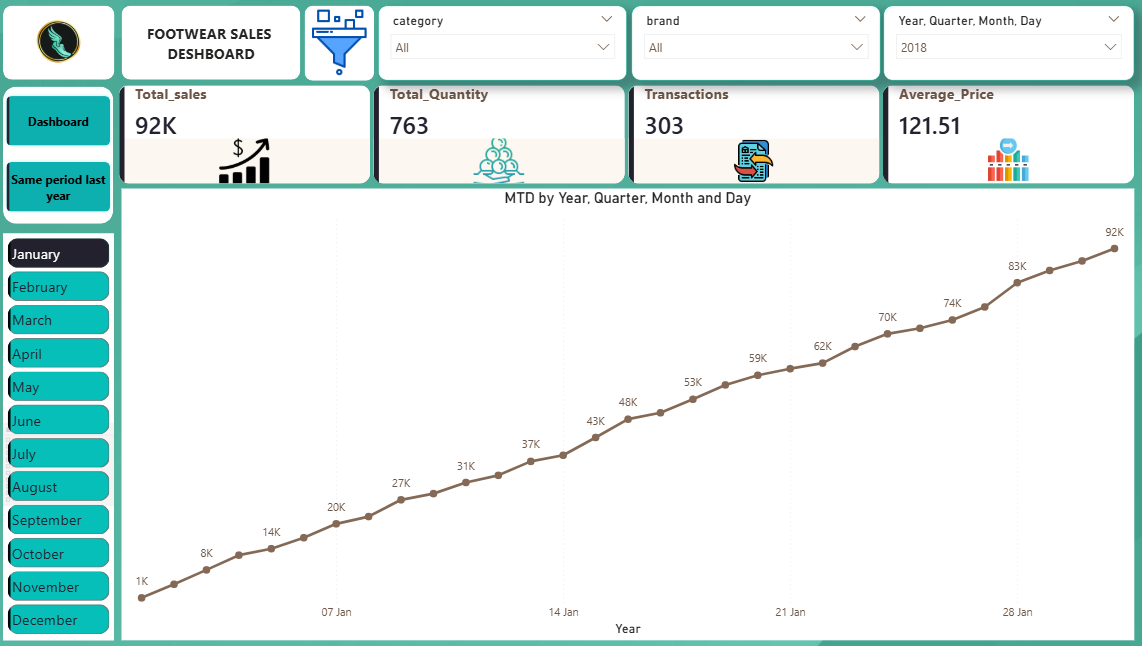

What the dashboard file says about the page in this screenshot:
{"tool":"powerbi","page":{"name":"MTD REPORT","canvas":[1280,720],"ordinal":1},"visuals":[{"type":"shape","box":[6.2,7.5,123.8,82.5],"z":0},{"type":"shape","box":[6.2,97.5,122.5,152.5],"z":1000},{"type":"image","box":[6.2,7.5,122.5,82.5],"z":2000},{"type":"cardVisual","fields":{"Data":["footwear_sales_data.Total_sales","footwear_sales_data.Total_Quantity","footwear_sales_data.Transactions","footwear_sales_data.Average_Price"]},"box":[117.7,80,1162.3,143.8],"z":3000},{"type":"slicer","fields":{"Values":["footwear_sales_data.category"]},"box":[423.3,8.3,276.7,83.3],"z":4000},{"type":"slicer","fields":{"Values":["footwear_sales_data.brand"]},"box":[705,8.3,276.7,83.3],"z":5000},{"type":"slicer","fields":{"Values":["Date_column.Date.Variation.Date Hierarchy.Year","Date_column.Date.Variation.Date Hierarchy.Quarter","Date_column.Date.Variation.Date Hierarchy.Month","Date_column.Date.Variation.Date Hierarchy.Day"]},"box":[985,8.3,278.3,83.3],"z":6000},{"type":"shape","box":[341.2,7.5,77.5,83.8],"z":7000},{"type":"image","box":[341.2,11.2,77.5,75],"z":8000},{"type":"shape","box":[137.5,7.5,198.8,82.5],"z":9000},{"type":"textbox","box":[161.2,22.5,152.5,52.5],"z":10000},{"type":"lineChart","fields":{"Y":["footwear_sales_data.MTD"],"Category":["Date_column.Date.Variation.Date Hierarchy.Year","Date_column.Date.Variation.Date Hierarchy.Quarter","Date_column.Date.Variation.Date Hierarchy.Month","Date_column.Date.Variation.Date Hierarchy.Day"]},"box":[138.3,211.7,1125,501.7],"z":11000},{"type":"advancedSlicerVisual","box":[6.2,261.5,123.1,452.3],"z":12000},{"type":"advancedSlicerVisual","box":[6.7,261.7,123.3,451.7],"z":13000},{"type":"advancedSlicerVisual","fields":{"Values":["Date_column.Date.Variation.Date Hierarchy.Month"]},"box":[6.7,261.7,123.3,458.3],"z":14000},{"type":"pageNavigator","box":[6.7,105,123.3,136.7],"z":15000}]}

Visuals, with their boxes in screenshot pixels (x1, y1, x2, y2), scaled from the page's 1280x720 canvas onto the 1142x646 screenshot:
shape: <box>6,7,116,81</box>
shape: <box>6,87,115,224</box>
image: <box>6,7,115,81</box>
cardVisual - footwear_sales_data.Total_sales x footwear_sales_data.Total_Quantity: <box>105,72,1141,201</box>
slicer - footwear_sales_data.category: <box>378,7,625,82</box>
slicer - footwear_sales_data.brand: <box>629,7,876,82</box>
slicer - Date_column.Date.Variation.Date Hierarchy.Year x Date_column.Date.Variation.Date Hierarchy.Quarter: <box>879,7,1127,82</box>
shape: <box>304,7,374,82</box>
image: <box>304,10,374,77</box>
shape: <box>123,7,300,81</box>
textbox: <box>144,20,280,67</box>
lineChart - footwear_sales_data.MTD x Date_column.Date.Variation.Date Hierarchy.Year: <box>123,190,1127,640</box>
advancedSlicerVisual: <box>6,235,115,640</box>
advancedSlicerVisual: <box>6,235,116,640</box>
advancedSlicerVisual - Date_column.Date.Variation.Date Hierarchy.Month: <box>6,235,116,645</box>
pageNavigator: <box>6,94,116,217</box>
